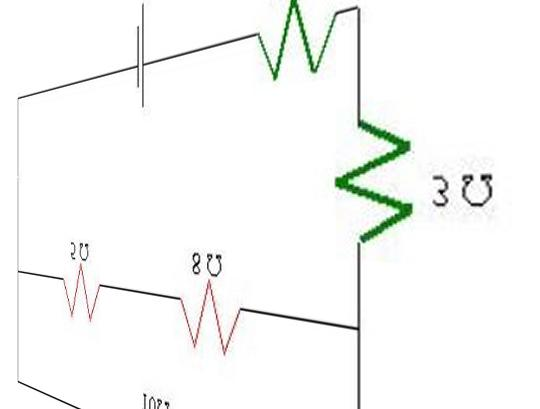resistor: (327, 99, 418, 247), (158, 288, 270, 358), (230, 1, 335, 72), (49, 258, 116, 330)
